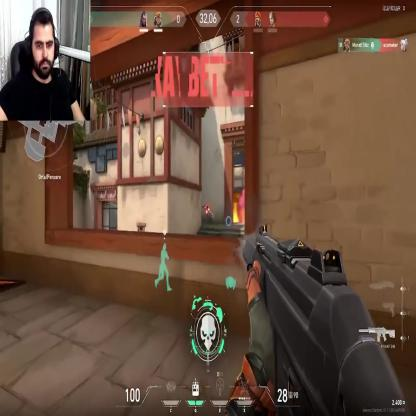enemy: (204, 202, 208, 220)
enemy_head: (205, 202, 207, 206)
